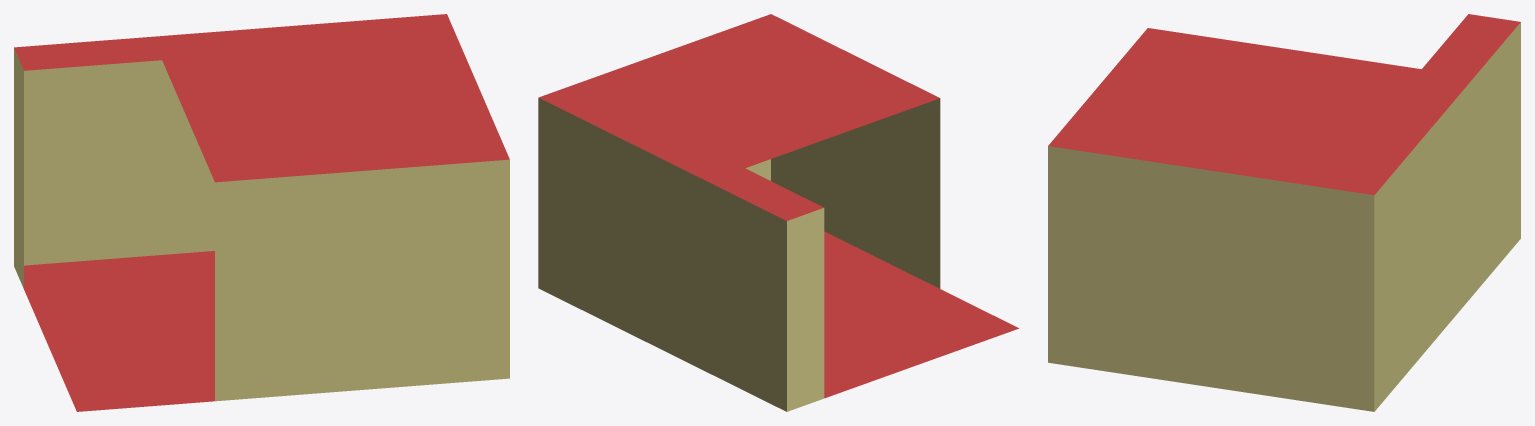
3 renders of one model, left to right at view 1: azimuth 30°, elevation 25°; view 2: azimuth 150°, elevation 25°; view 3: azimuth 270°, elevation 25°, orthographic. The views are drawn at different scales.
Bounding box in the file's own units: 12.9 × 11.58 × 5.86.
